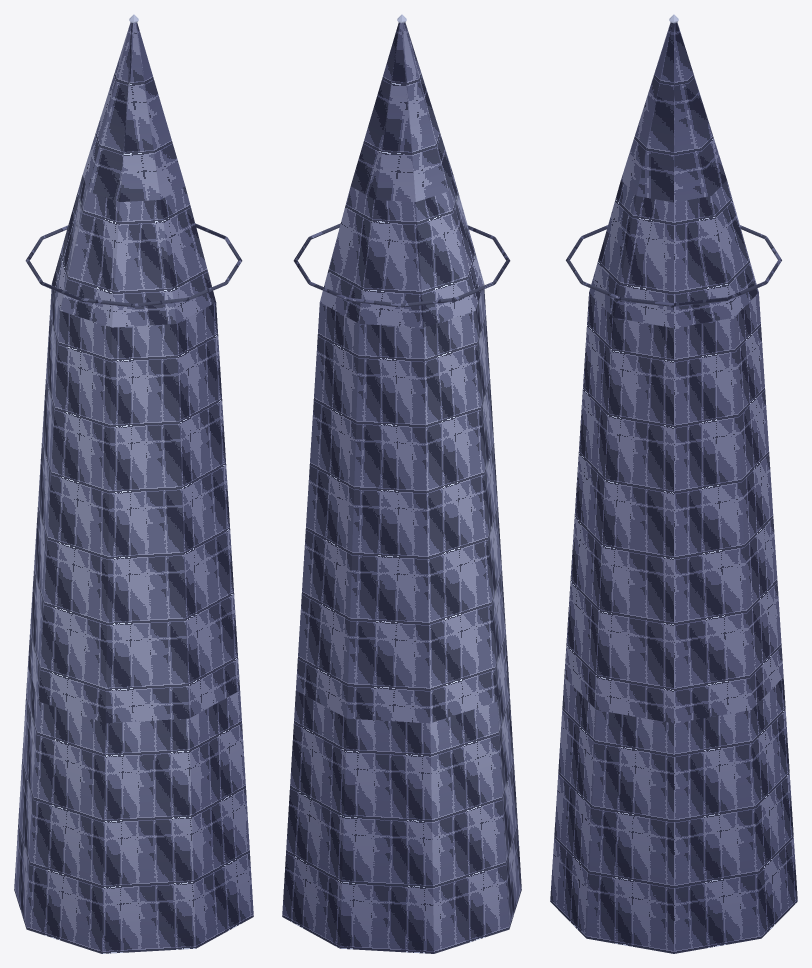
File: cysky.megatower.glb
3 views of the same model, side by side, from view 1: azimuth 30°, elevation 25°; view 2: azimuth 150°, elevation 25°; view 3: azimuth 270°, elevation 25° (orthographic).
Visible parts, largest first — view 1: kit_body, kit_beacons; view 2: kit_body, kit_beacons; view 3: kit_body, kit_beacons.
Boxes of the visible parts, x1,y1,x2,y2 form: kit_body: (14, 22, 253, 953); kit_beacons: (25, 14, 242, 307); kit_body: (282, 22, 521, 953); kit_beacons: (293, 14, 510, 307); kit_body: (550, 22, 797, 953); kit_beacons: (566, 14, 781, 306).
Size of the model in its own units: 9.1 by 35.98 by 9.1.
Materials: 3 (3 with a texture image).
